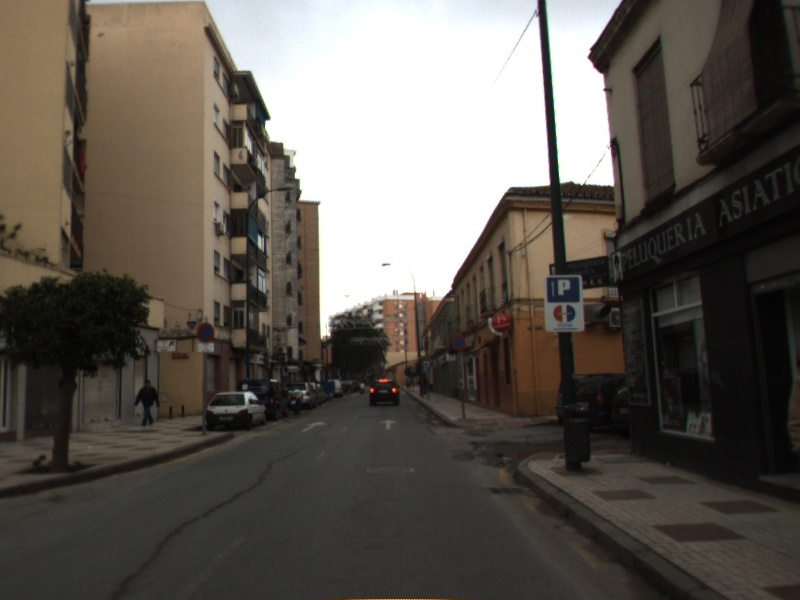STRAIGHT: (299, 419, 328, 434), (376, 417, 401, 432)
